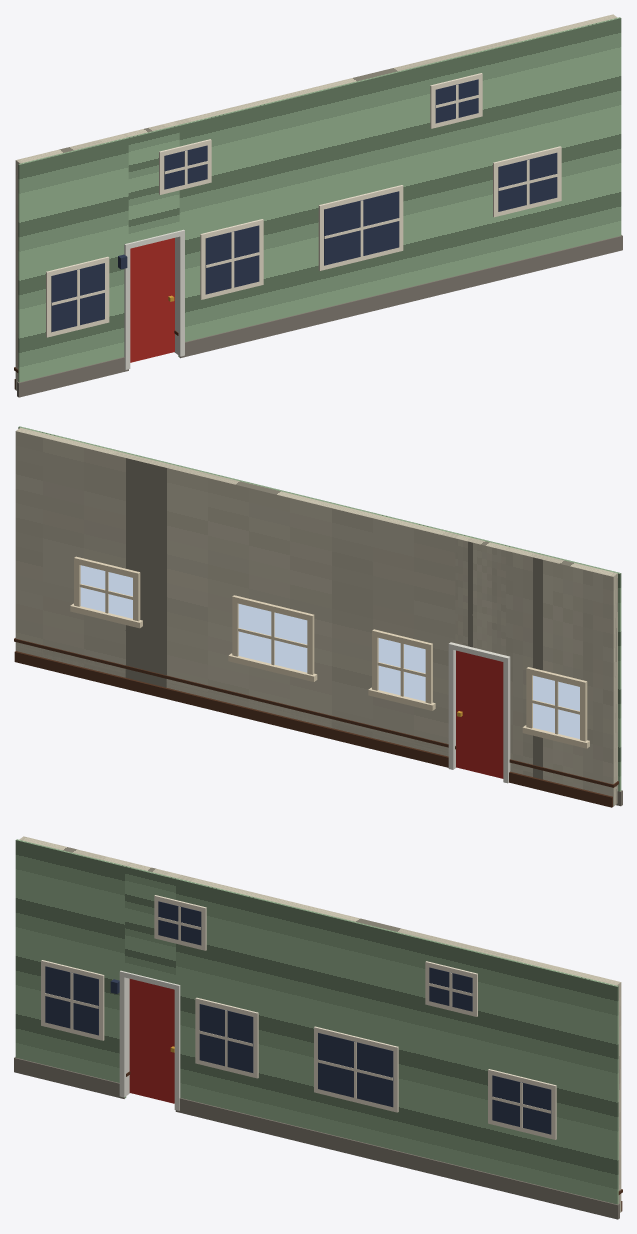
File: front.glb
The picture shows the model from 3 angles, top to bottom: view 1: azimuth 30°, elevation 25°; view 2: azimuth 150°, elevation 25°; view 3: azimuth 330°, elevation 25°; orthographic projection.
Visible parts, largest first — view 1: Box8, Box6, Box9, Box14, Box10, Box40, Box29, Box18, Box51, Box3, Box7, Box39 (+10 smaller); view 2: Box3, Box1, Box14, Box5, Box4, Box72, Box47, Box36, Box25, Box58, Box73, Box2 (+10 smaller); view 3: Box8, Box6, Box9, Box14, Box10, Box40, Box3, Box29, Box18, Box51, Box7, Box39 (+10 smaller).
Boxes of the visible parts, x1=… form: Box8: x1=178, y1=17, x2=621, y2=357; Box6: x1=18, y1=137, x2=128, y2=382; Box9: x1=179, y1=235, x2=622, y2=358; Box14: x1=130, y1=238, x2=174, y2=362; Box10: x1=128, y1=125, x2=179, y2=242; Box40: x1=324, y1=191, x2=399, y2=265; Box29: x1=205, y1=225, x2=259, y2=294; Box18: x1=51, y1=263, x2=104, y2=332; Box51: x1=498, y1=152, x2=557, y2=211; Box3: x1=174, y1=14, x2=617, y2=124; Box7: x1=17, y1=357, x2=128, y2=397; Box39: x1=318, y1=185, x2=403, y2=270; Box3: x1=15, y1=427, x2=458, y2=756; Box1: x1=506, y1=547, x2=617, y2=806; Box14: x1=456, y1=650, x2=503, y2=778; Box5: x1=455, y1=535, x2=510, y2=655; Box4: x1=14, y1=651, x2=448, y2=767; Box72: x1=15, y1=642, x2=448, y2=756; Box47: x1=238, y1=604, x2=307, y2=672; Box36: x1=378, y1=638, x2=425, y2=701; Box25: x1=533, y1=675, x2=579, y2=738; Box58: x1=80, y1=565, x2=132, y2=618; Box73: x1=14, y1=638, x2=456, y2=749; Box2: x1=509, y1=771, x2=612, y2=807; Box8: x1=176, y1=878, x2=618, y2=1204; Box6: x1=15, y1=839, x2=126, y2=1097; Box9: x1=175, y1=1098, x2=619, y2=1219; Box14: x1=129, y1=979, x2=174, y2=1103; Box10: x1=125, y1=866, x2=176, y2=983; Box40: x1=318, y1=1033, x2=393, y2=1107; Box3: x1=177, y1=875, x2=621, y2=1212; Box29: x1=199, y1=1004, x2=253, y2=1072; Box18: x1=45, y1=966, x2=98, y2=1035; Box51: x1=492, y1=1075, x2=551, y2=1134; Box7: x1=14, y1=1057, x2=124, y2=1098; Box39: x1=314, y1=1026, x2=398, y2=1112.
Size of the model in its own units: 11.27 by 4.14 by 0.395.
11 materials, 2 textured.
